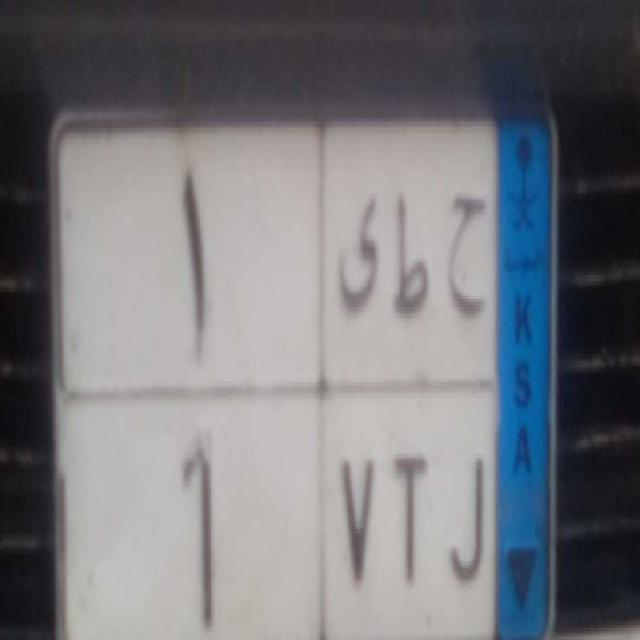license_plate: (60, 382, 497, 640)
